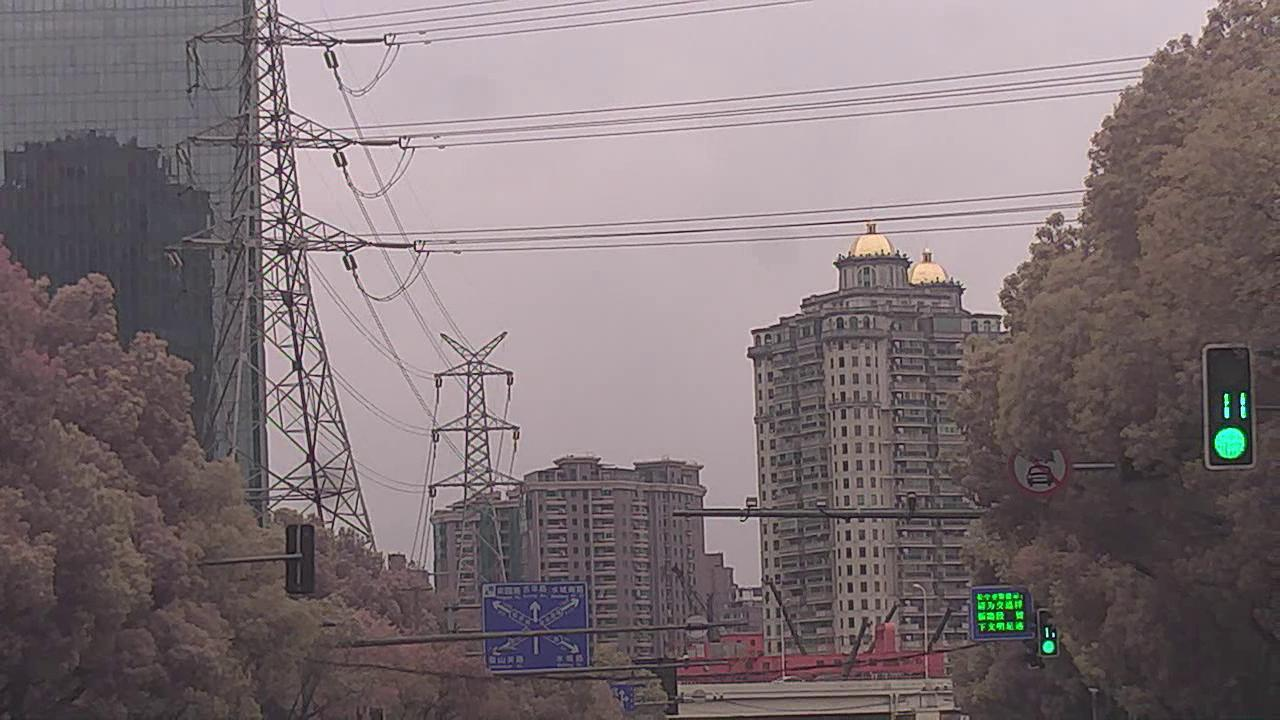traffic_light: (1203, 345, 1258, 469), (1040, 607, 1058, 657)
